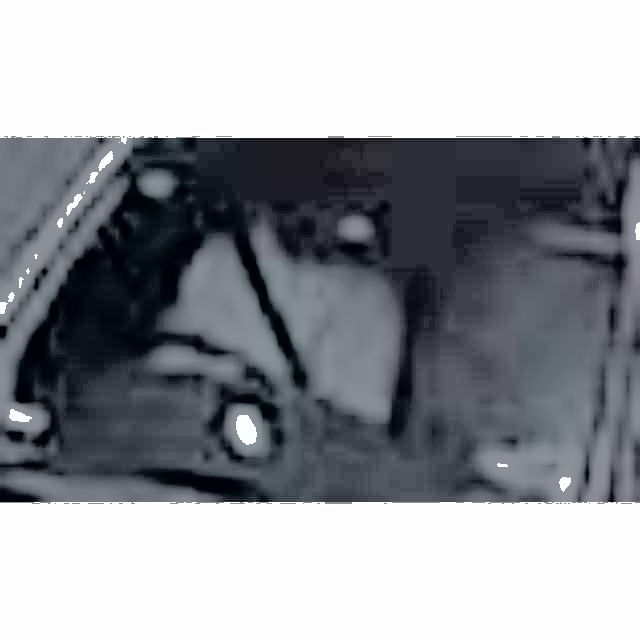pakai: (170, 219, 397, 413)
